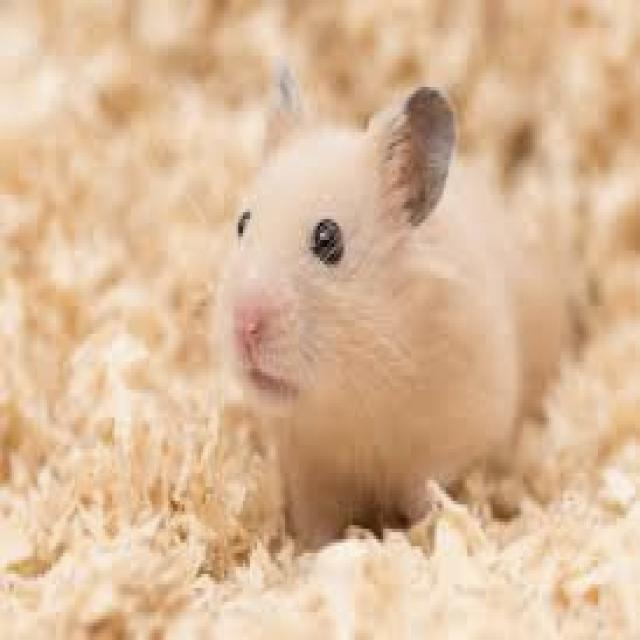hamster: (222, 63, 558, 539)
